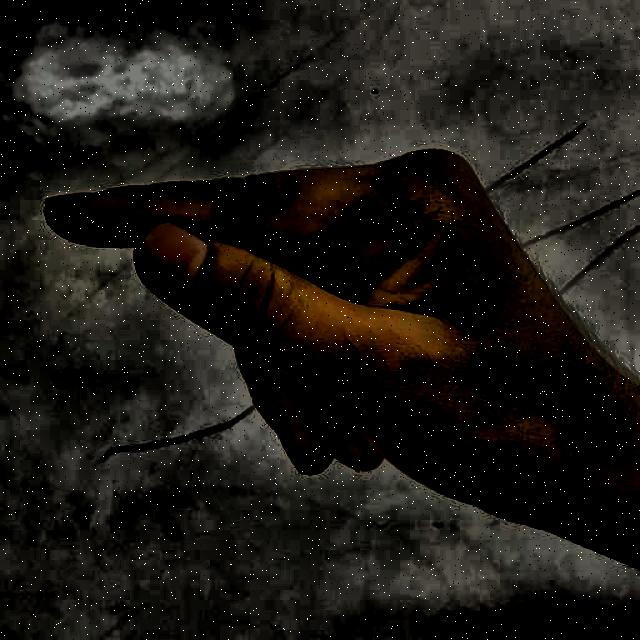Tha: (29, 80, 616, 578)
